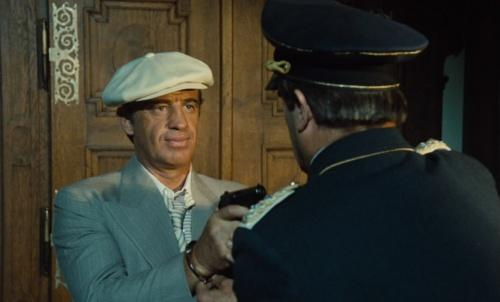Gun: (217, 183, 267, 224)
